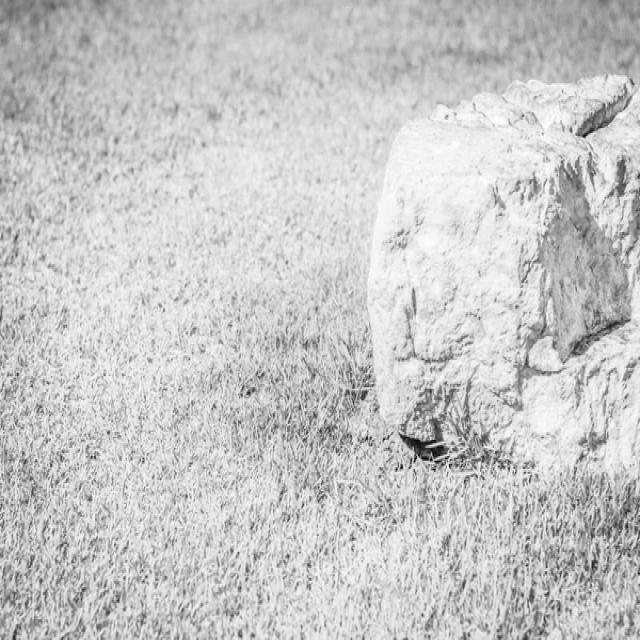Stone: (356, 75, 640, 470)
